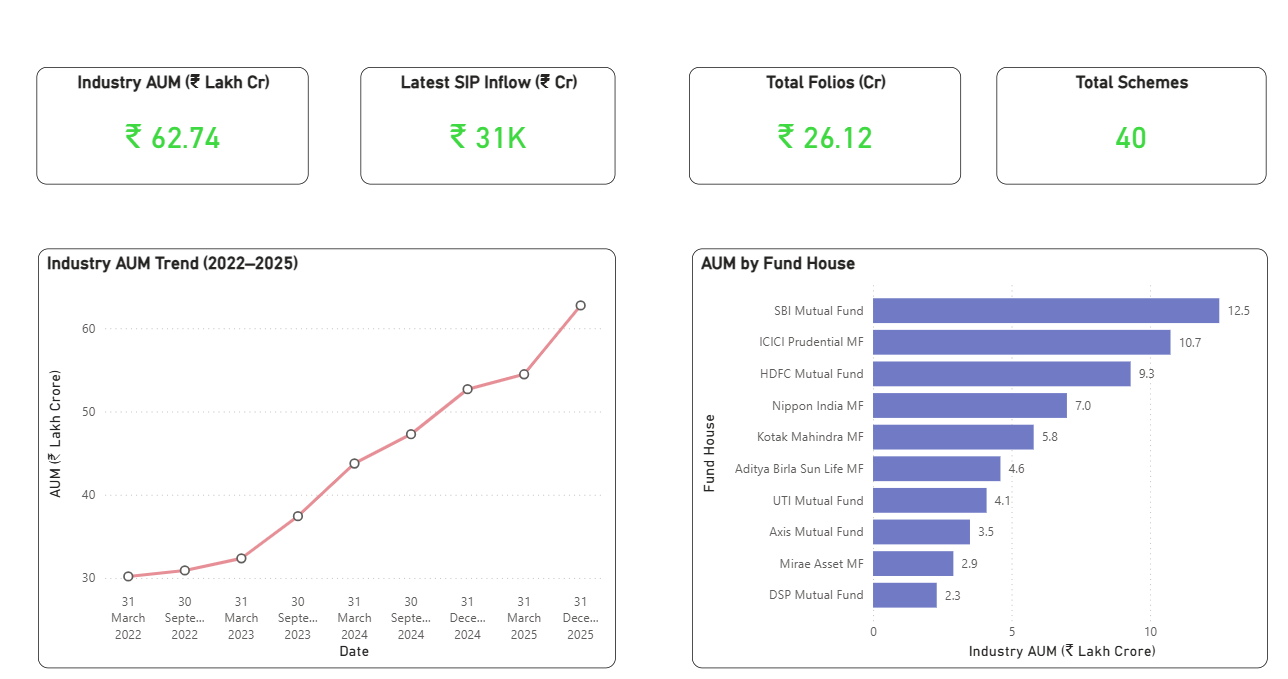

Layout of this report page (visuals, bound fields, positions):
{"tool":"powerbi","page":{"name":"Indusrty  Overview","canvas":[1280,720],"ordinal":0},"visuals":[{"type":"card","title":"Industry AUM (₹ Lakh Cr)","fields":{"Values":["Measure_Table.Industry AUM"]},"box":[45.2,107.1,264.3,114.3],"z":0},{"type":"card","title":"Latest SIP Inflow (₹ Cr)","fields":{"Values":["Measure_Table.Latest SIP Inflow"]},"box":[359.5,107.1,247.6,114.3],"z":1000},{"type":"card","title":"Total Folios (Cr) ","fields":{"Values":["Measure_Table.Latest Total Folios"]},"box":[678.6,107.1,264.3,114.3],"z":2000},{"type":"card","title":"Total Schemes","fields":{"Values":["Measure_Table.Total Schemes"]},"box":[976.2,107.1,261.9,114.3],"z":3000},{"type":"lineChart","title":"Industry AUM Trend (2022–2025)","fields":{"Category":["03_aum_by_fund_house.date"],"Y":["Sum(03_aum_by_fund_house.aum_lakh_crore)"]},"box":[46.2,283.6,560.9,407.5],"z":4000},{"type":"clusteredBarChart","title":"AUM by Fund House","fields":{"Category":["03_aum_by_fund_house.fund_house"],"Y":["Sum(03_aum_by_fund_house.aum_lakh_crore)"]},"box":[680.6,283.6,558.8,407.5],"z":5000}]}

Visuals, with their boxes on the page's 1280x720 design canvas (x1, y1, x2, y2). These are canvas units, not pixel positions in the 1288x679 screenshot, which may show the page scaled, cropped or inside an application window:
"Industry AUM (₹ Lakh Cr)" card: detection(45, 107, 310, 221)
"Latest SIP Inflow (₹ Cr)" card: detection(360, 107, 607, 221)
"Total Folios (Cr) " card: detection(679, 107, 943, 221)
"Total Schemes" card: detection(976, 107, 1238, 221)
"Industry AUM Trend (2022–2025)" lineChart: detection(46, 284, 607, 691)
"AUM by Fund House" clusteredBarChart: detection(681, 284, 1239, 691)
